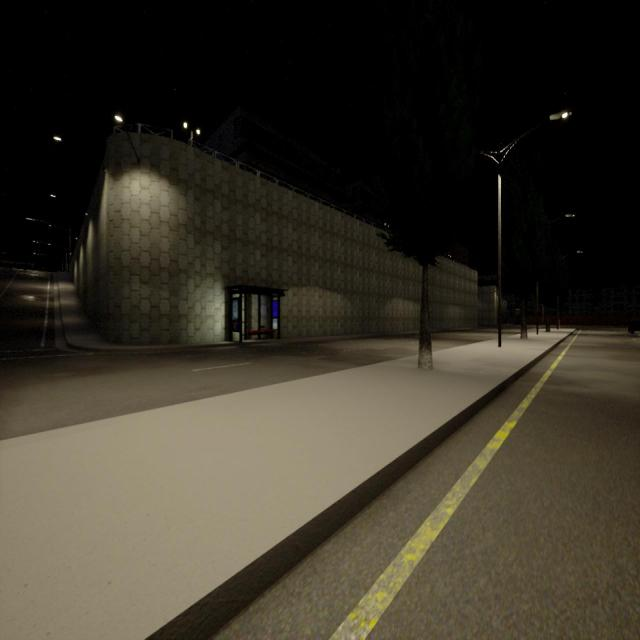Vehicle: (627, 318, 640, 333)
